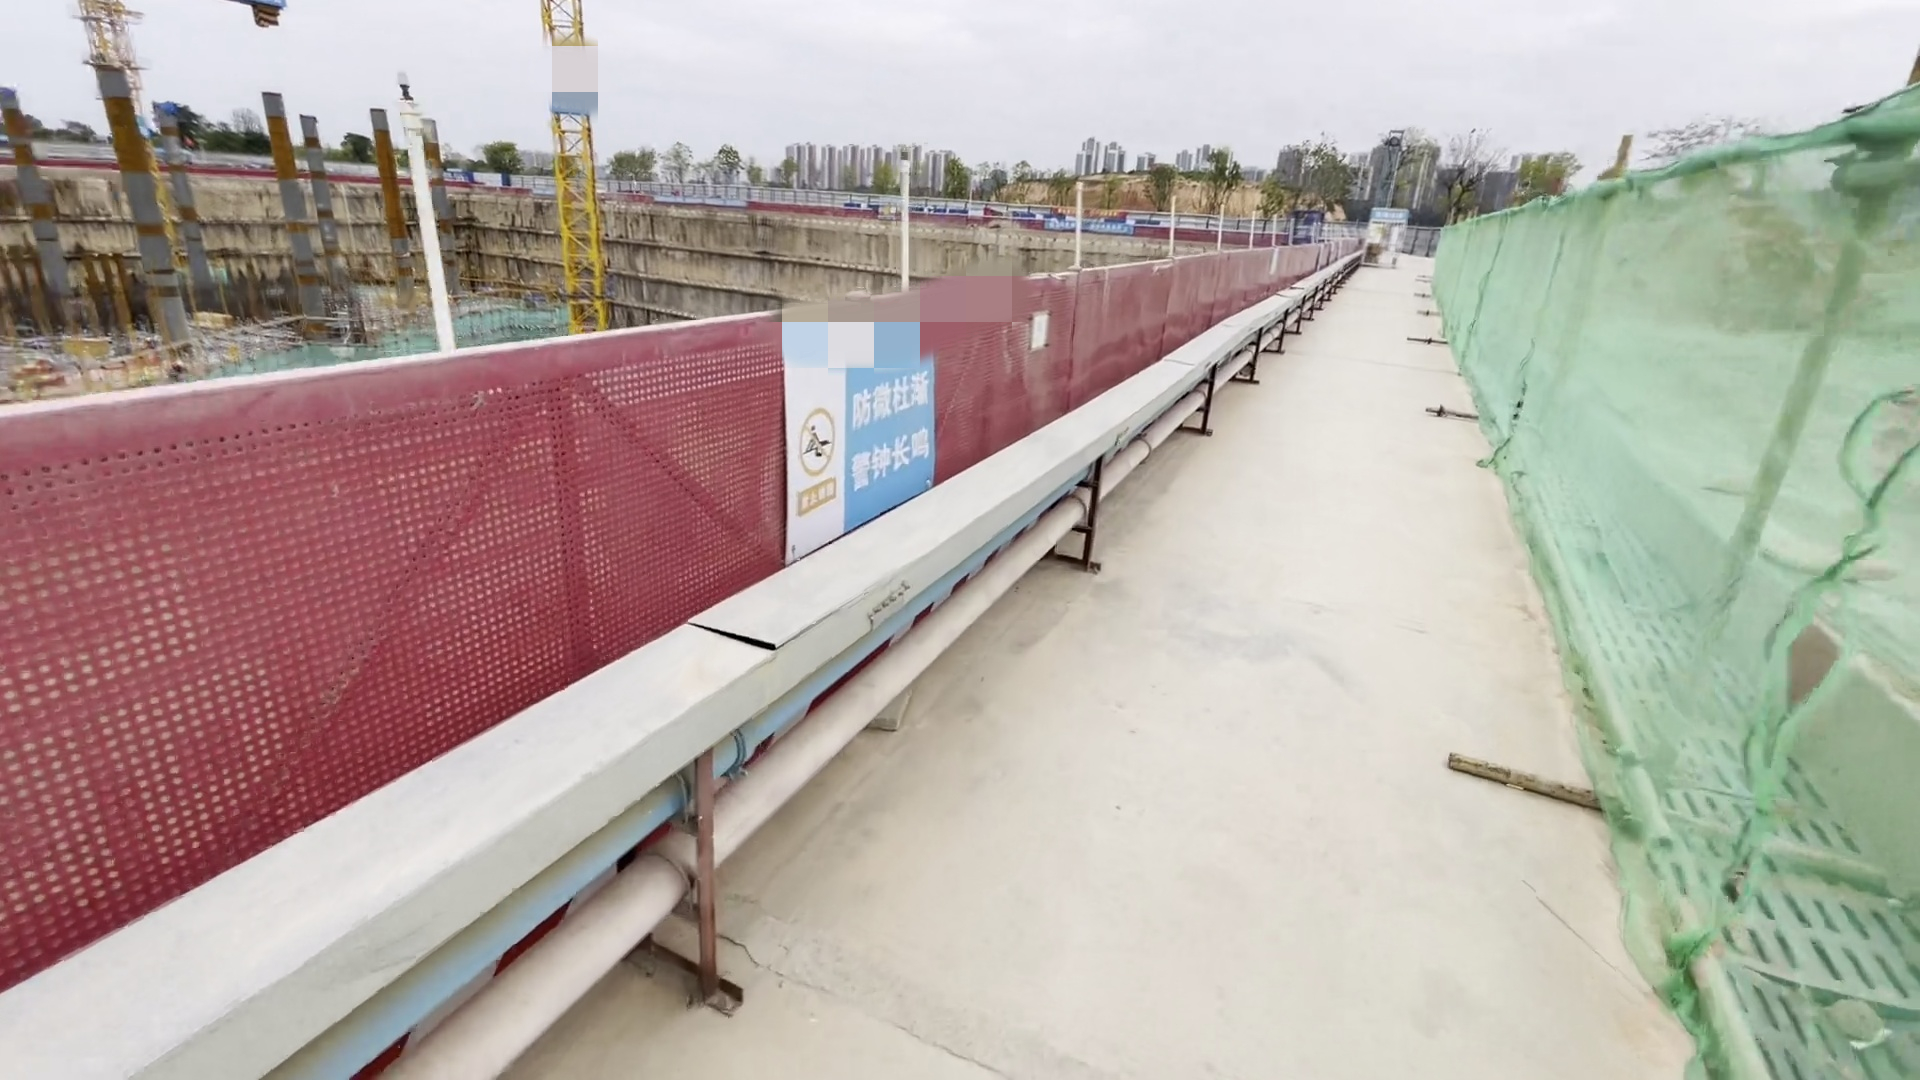fence: (1, 227, 1373, 1025)
slogan: (835, 371, 938, 483)
